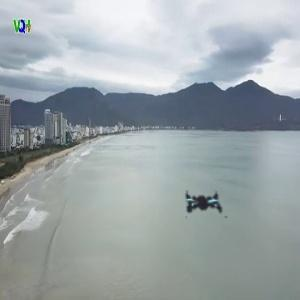drone: (154, 157, 255, 258)
